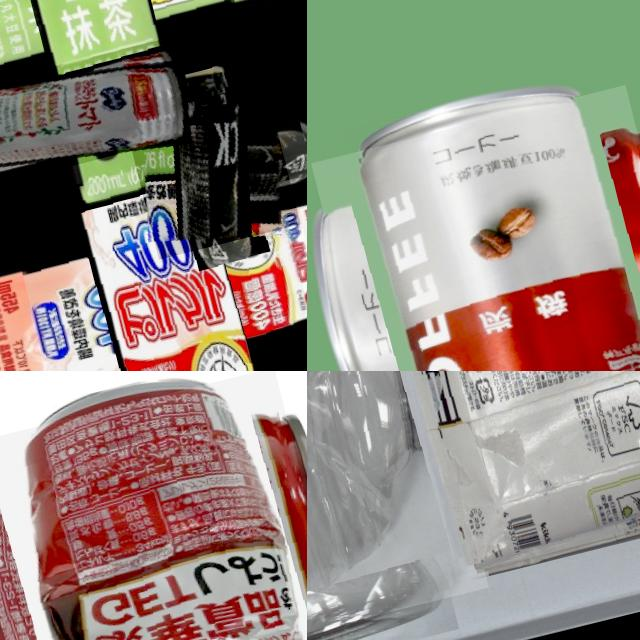Aluminium Foil: (4, 135, 307, 371), (380, 371, 640, 574), (0, 0, 256, 152)
Can: (310, 83, 640, 371), (0, 371, 307, 640), (0, 34, 197, 197), (123, 81, 300, 258)
Transparent Plastic Bottle: (307, 371, 488, 640)
